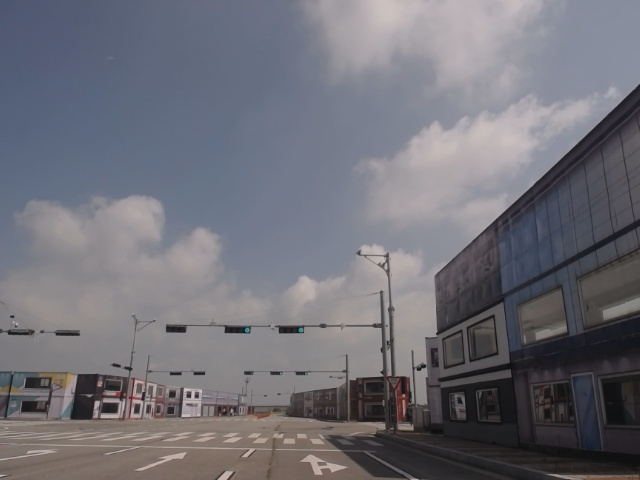straight_green_4: (226, 322, 252, 335), (278, 324, 305, 334)
